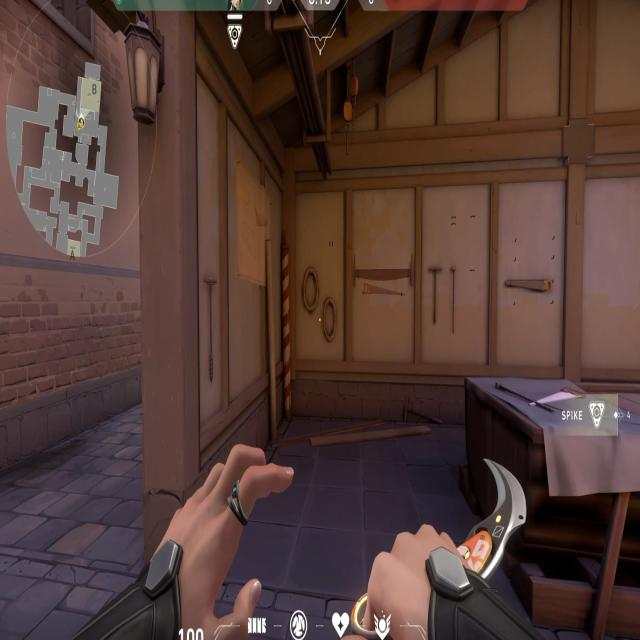B_Garage_Left: (126, 0, 570, 605)
